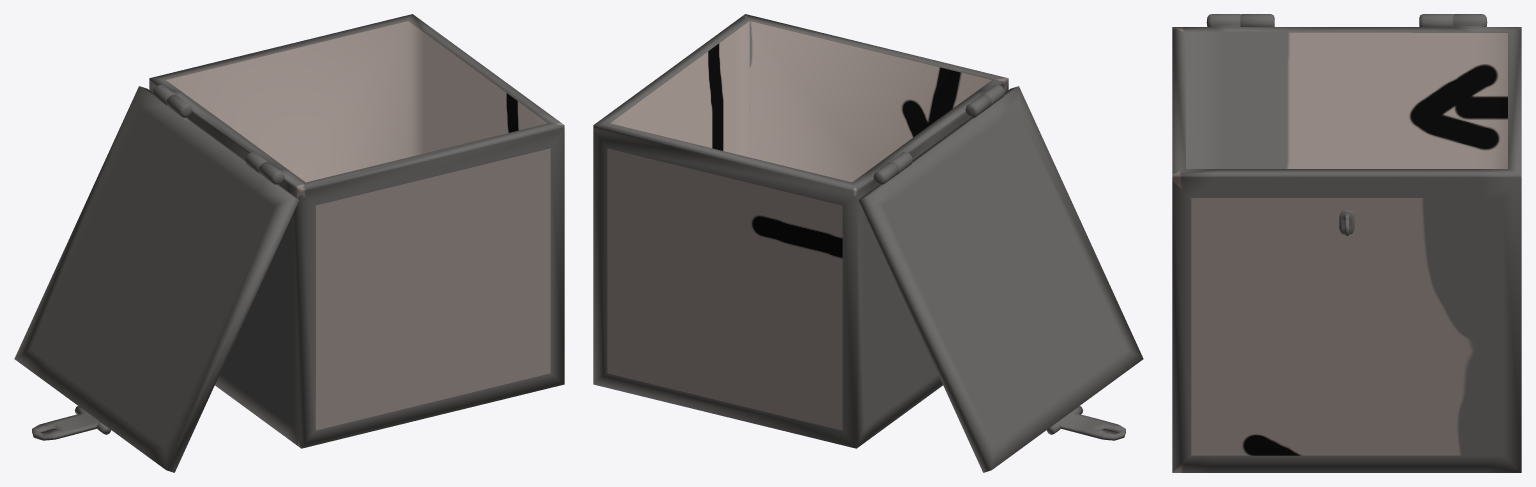
The model's file is SM_DeliveryCrate.fbx.
3 renders of one model, left to right at view 1: azimuth 30°, elevation 25°; view 2: azimuth 150°, elevation 25°; view 3: azimuth 270°, elevation 25°, orthographic. The views are drawn at different scales.
Visible parts, largest first — view 1: DeliveryCrate; view 2: DeliveryCrate; view 3: DeliveryCrate.
Boxes of the visible parts, x1,y1,x2,y2 form: DeliveryCrate: (14,14,564,472); DeliveryCrate: (593,14,1143,472); DeliveryCrate: (1172,14,1521,472).
Bounding box in the file's own units: 152 × 82.28 × 85.
